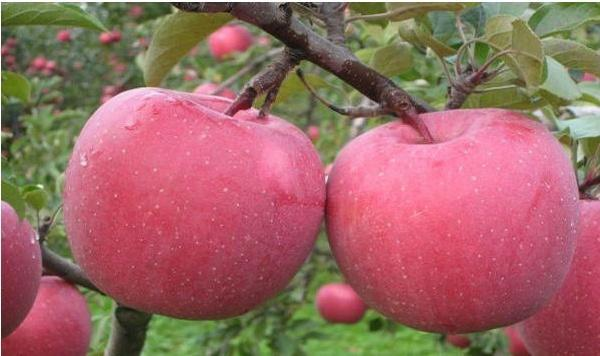apple: (61, 88, 322, 318), (322, 105, 580, 336), (2, 277, 92, 354), (1, 200, 41, 332), (315, 280, 366, 325), (207, 22, 259, 59)
